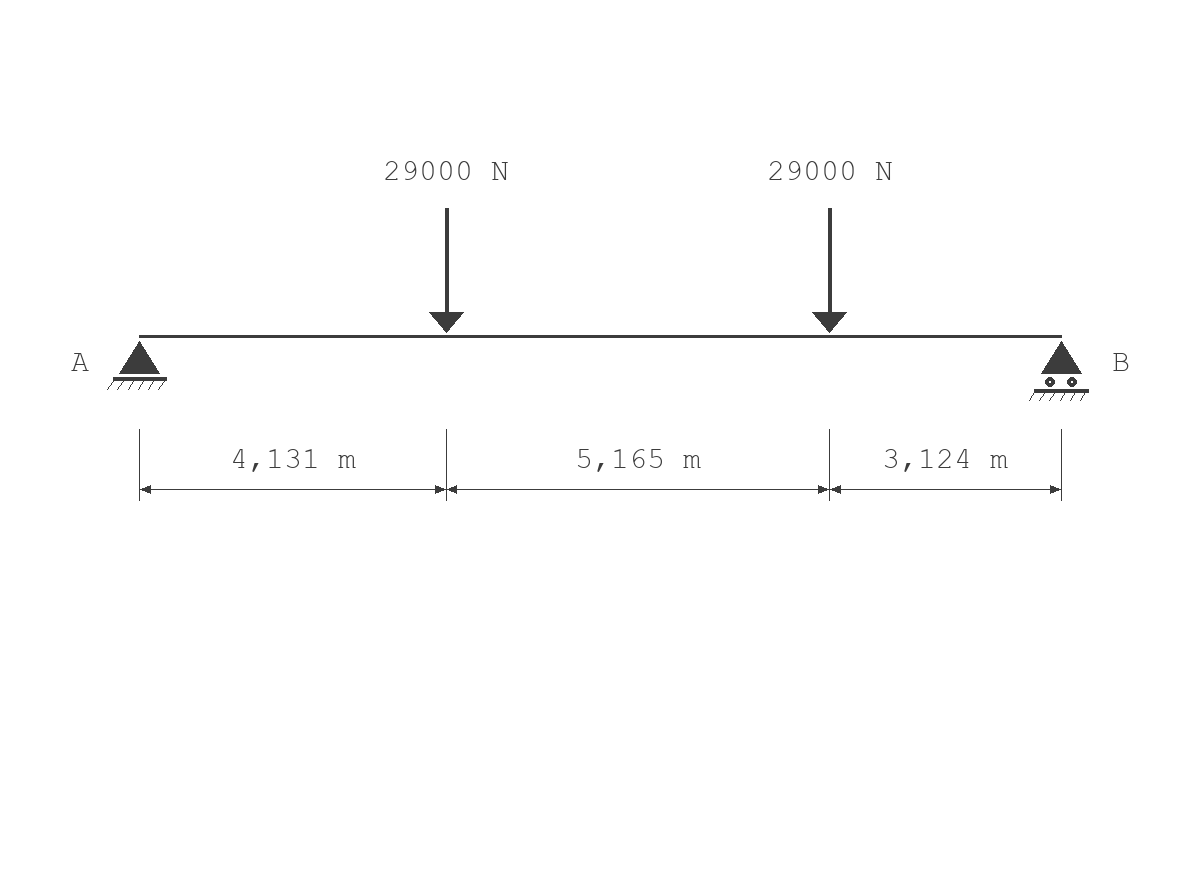pin_support: (107, 341, 167, 390)
point_load: (429, 208, 464, 333), (812, 208, 847, 333)
roller_support: (1029, 341, 1089, 401)
